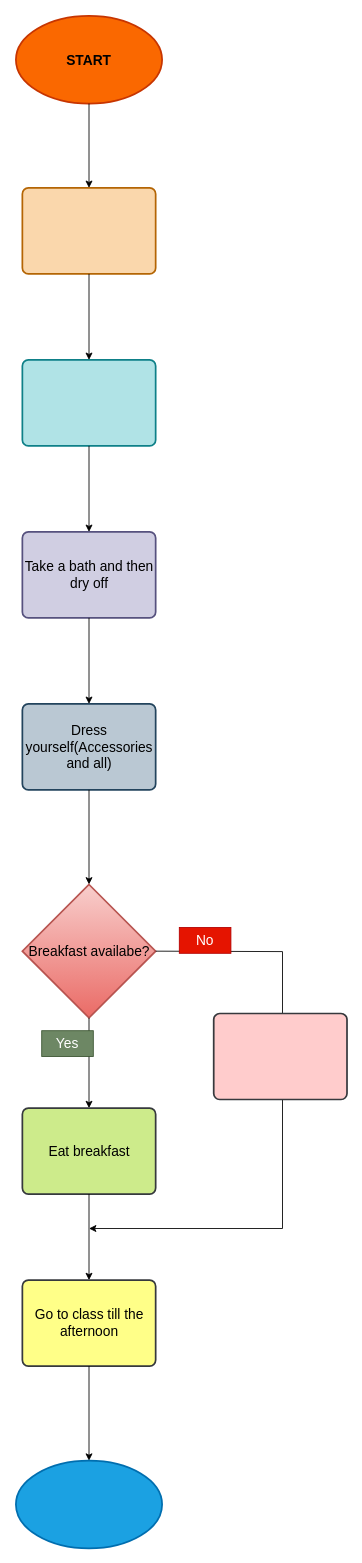
Image size: 362x1563. Some labels were removed from this diagram. The centre of each missing label's shape, as x and y in pixels:
Brush teeth: point (88, 402)
END: point (89, 1504)
Skip breakfast: point (279, 1056)
Wake up: point (88, 230)
